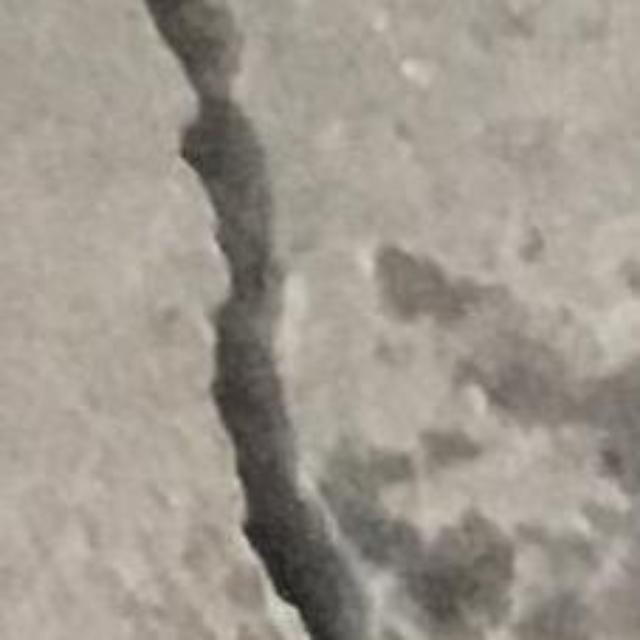crack: (144, 0, 513, 639)
